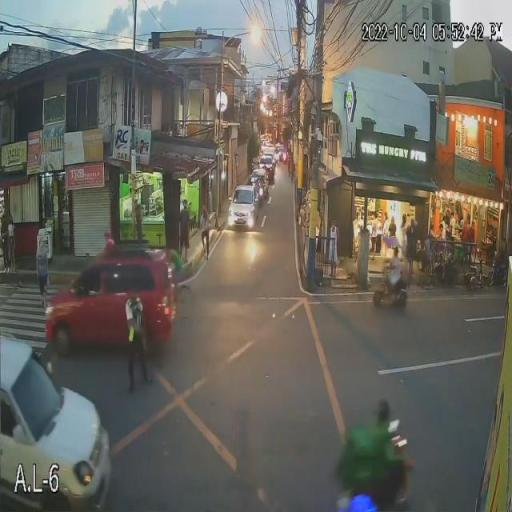helmet: (377, 398, 397, 431)
rider: (367, 398, 400, 508)
